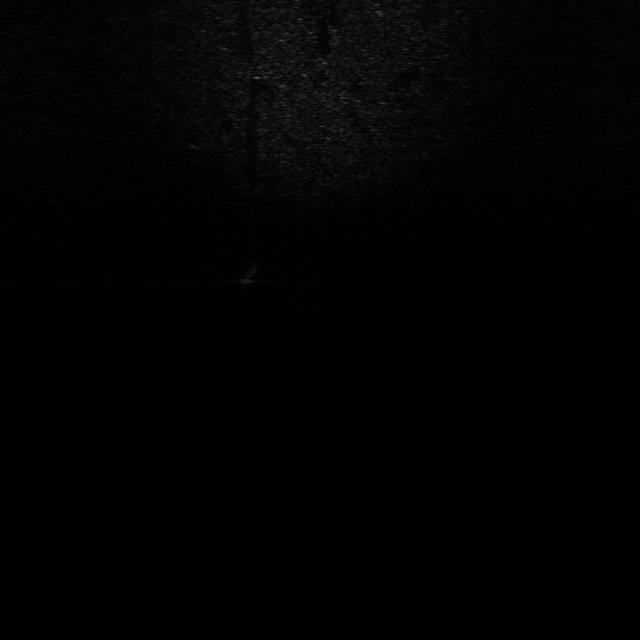human body: (234, 246, 266, 296)
